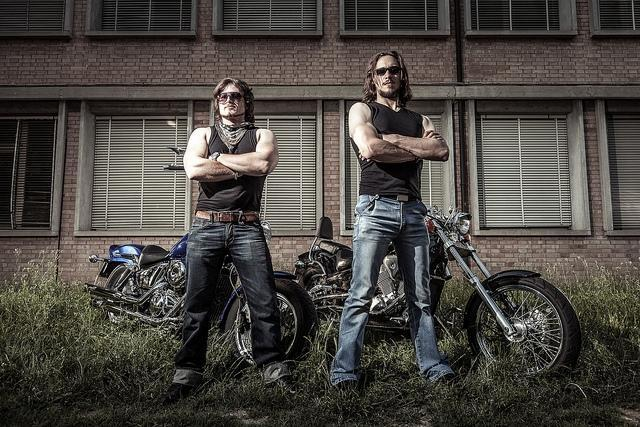motorcycle: (290, 198, 589, 382), (84, 144, 322, 368)
